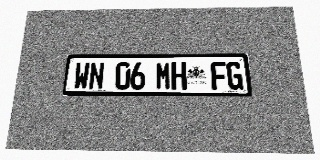0: (115, 62, 131, 90)
6: (130, 62, 146, 90)
F: (211, 61, 227, 90)
G: (226, 61, 243, 90)
H: (171, 62, 187, 90)
M: (156, 62, 171, 90)
N: (88, 62, 105, 90)
W: (73, 62, 90, 90)
